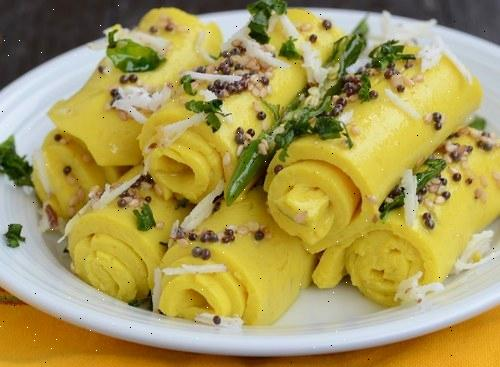khandvi: (55, 5, 491, 310)
